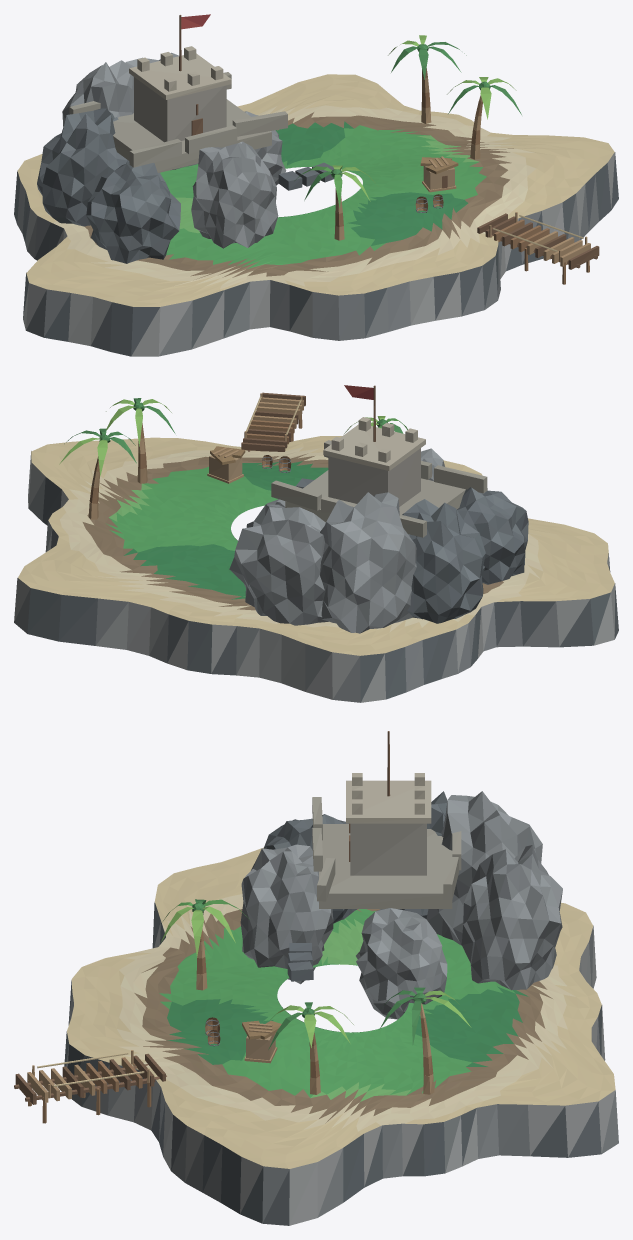
File: island_fortress_rock.glb
3 views of the same model, one above another, from view 1: azimuth 30°, elevation 25°; view 2: azimuth 150°, elevation 25°; view 3: azimuth 270°, elevation 25° (orthographic). The views are drawn at different scales.
Visible parts, largest first — view 1: Fortress_rock_base_terrain, Fortress_rock_jagged_rock_shelf, Fortress_rock_crag_4, Fortress_rock_crag_3, Fortress_rock_crag_0, Fortress_rock_keep_body, Fortress_rock_keep_platform, Fortress_rock_crag_1, Fortress_rock_keep_roof, Fortress_rock_wall_2, Fortress_rock_wall_0, Fortress_rock_wall_1 (+2 smaller); view 2: Fortress_rock_base_terrain, Fortress_rock_jagged_rock_shelf, Fortress_rock_crag_1, Fortress_rock_crag_2, Fortress_rock_crag_0, Fortress_rock_crag_3, Fortress_rock_keep_body, Fortress_rock_keep_roof, Fortress_rock_keep_platform, Fortress_rock_wall_0, Fortress_rock_wall_5, Fortress_rock_guard_hut_walls (+1 smaller); view 3: Fortress_rock_base_terrain, Fortress_rock_jagged_rock_shelf, Fortress_rock_crag_2, Fortress_rock_crag_4, Fortress_rock_crag_5, Fortress_rock_crag_1, Fortress_rock_keep_platform, Fortress_rock_keep_body, Fortress_rock_keep_roof, Fortress_rock_crag_3, Fortress_rock_crag_0.
Part boxes in pixels (bbox=[...]): Fortress_rock_base_terrain: bbox=[17, 74, 614, 306]; Fortress_rock_jagged_rock_shelf: bbox=[14, 152, 618, 356]; Fortress_rock_crag_4: bbox=[191, 141, 278, 248]; Fortress_rock_crag_3: bbox=[86, 162, 180, 263]; Fortress_rock_crag_0: bbox=[37, 107, 129, 226]; Fortress_rock_keep_body: bbox=[134, 77, 226, 142]; Fortress_rock_keep_platform: bbox=[113, 99, 271, 172]; Fortress_rock_crag_1: bbox=[62, 60, 133, 126]; Fortress_rock_keep_roof: bbox=[129, 53, 231, 99]; Fortress_rock_wall_2: bbox=[232, 111, 287, 136]; Fortress_rock_wall_0: bbox=[129, 139, 181, 167]; Fortress_rock_wall_1: bbox=[185, 125, 237, 153]; Fortress_rock_base_terrain: bbox=[18, 436, 614, 655]; Fortress_rock_jagged_rock_shelf: bbox=[14, 451, 618, 702]; Fortress_rock_crag_1: bbox=[320, 492, 416, 633]; Fortress_rock_crag_2: bbox=[229, 504, 328, 625]; Fortress_rock_crag_0: bbox=[402, 499, 485, 623]; Fortress_rock_crag_3: bbox=[457, 487, 528, 584]; Fortress_rock_keep_body: bbox=[328, 448, 420, 506]; Fortress_rock_keep_roof: bbox=[323, 424, 425, 470]; Fortress_rock_keep_platform: bbox=[285, 470, 465, 522]; Fortress_rock_wall_0: bbox=[434, 465, 487, 493]; Fortress_rock_wall_5: bbox=[271, 480, 321, 510]; Fortress_rock_guard_hut_walls: bbox=[209, 455, 242, 480]; Fortress_rock_base_terrain: bbox=[67, 847, 615, 1168]; Fortress_rock_jagged_rock_shelf: bbox=[64, 902, 618, 1225]; Fortress_rock_crag_2: bbox=[461, 845, 562, 990]; Fortress_rock_crag_4: bbox=[240, 844, 333, 984]; Fortress_rock_crag_5: bbox=[356, 908, 447, 1019]; Fortress_rock_crag_1: bbox=[426, 791, 542, 945]; Fortress_rock_keep_platform: bbox=[319, 824, 452, 908]; Fortress_rock_keep_body: bbox=[350, 823, 426, 875]; Fortress_rock_keep_roof: bbox=[346, 780, 431, 823]; Fortress_rock_crag_3: bbox=[263, 814, 357, 923]; Fortress_rock_crag_0: bbox=[398, 791, 447, 918].
Size of the model in its own units: 27.61 by 10.72 by 21.31.
